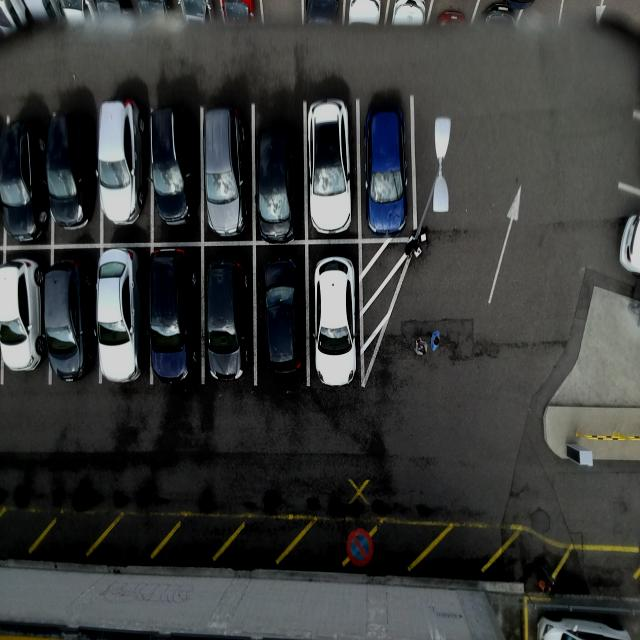car: (95, 243, 148, 384), (202, 97, 254, 240), (309, 94, 358, 237), (149, 246, 199, 386), (98, 99, 150, 232), (312, 254, 362, 388), (364, 95, 410, 237), (205, 256, 256, 384), (46, 111, 96, 234), (46, 258, 93, 385), (256, 118, 303, 245), (152, 111, 201, 230), (1, 123, 47, 249), (261, 256, 306, 376), (2, 254, 44, 377)
